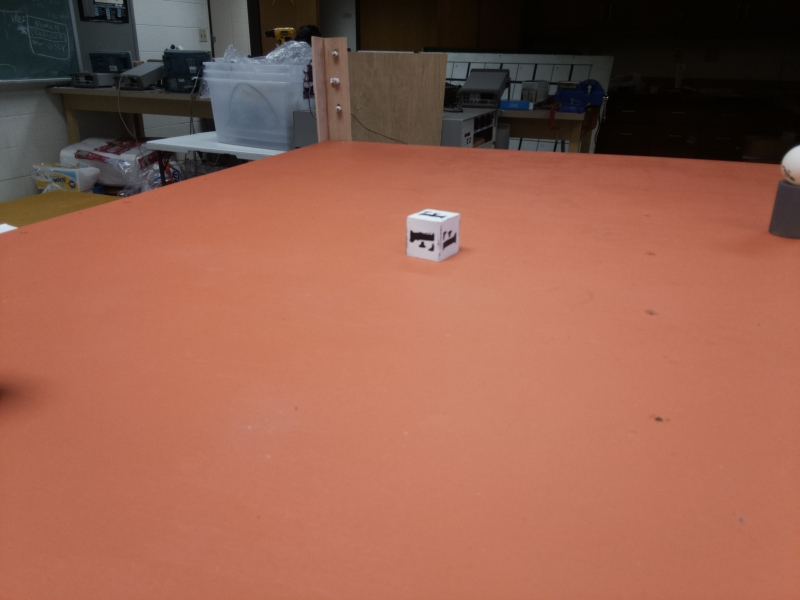blockF: (404, 207, 464, 266)
corner: (313, 37, 351, 144)
obstacle: (773, 143, 800, 236)
